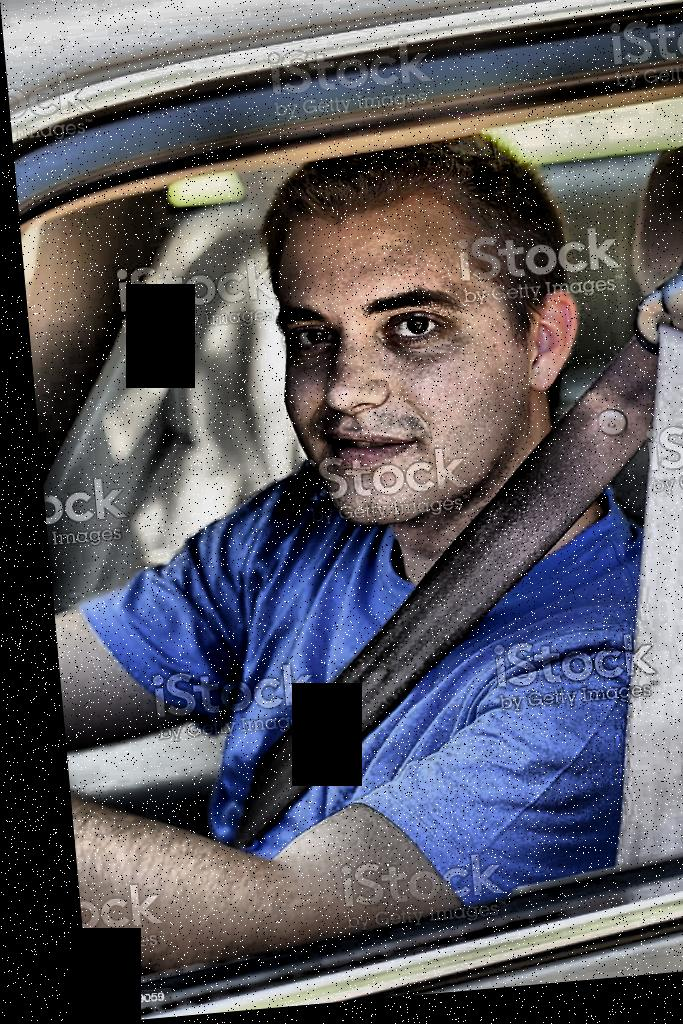seatbelt: (170, 256, 683, 857)
